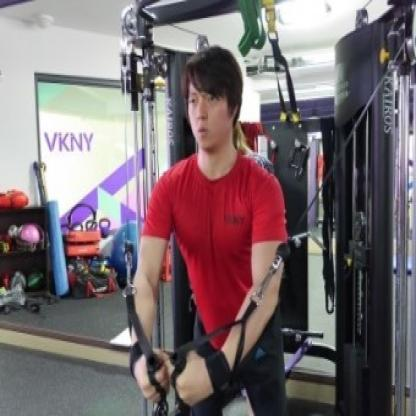chest fly machine: (84, 0, 416, 416)
